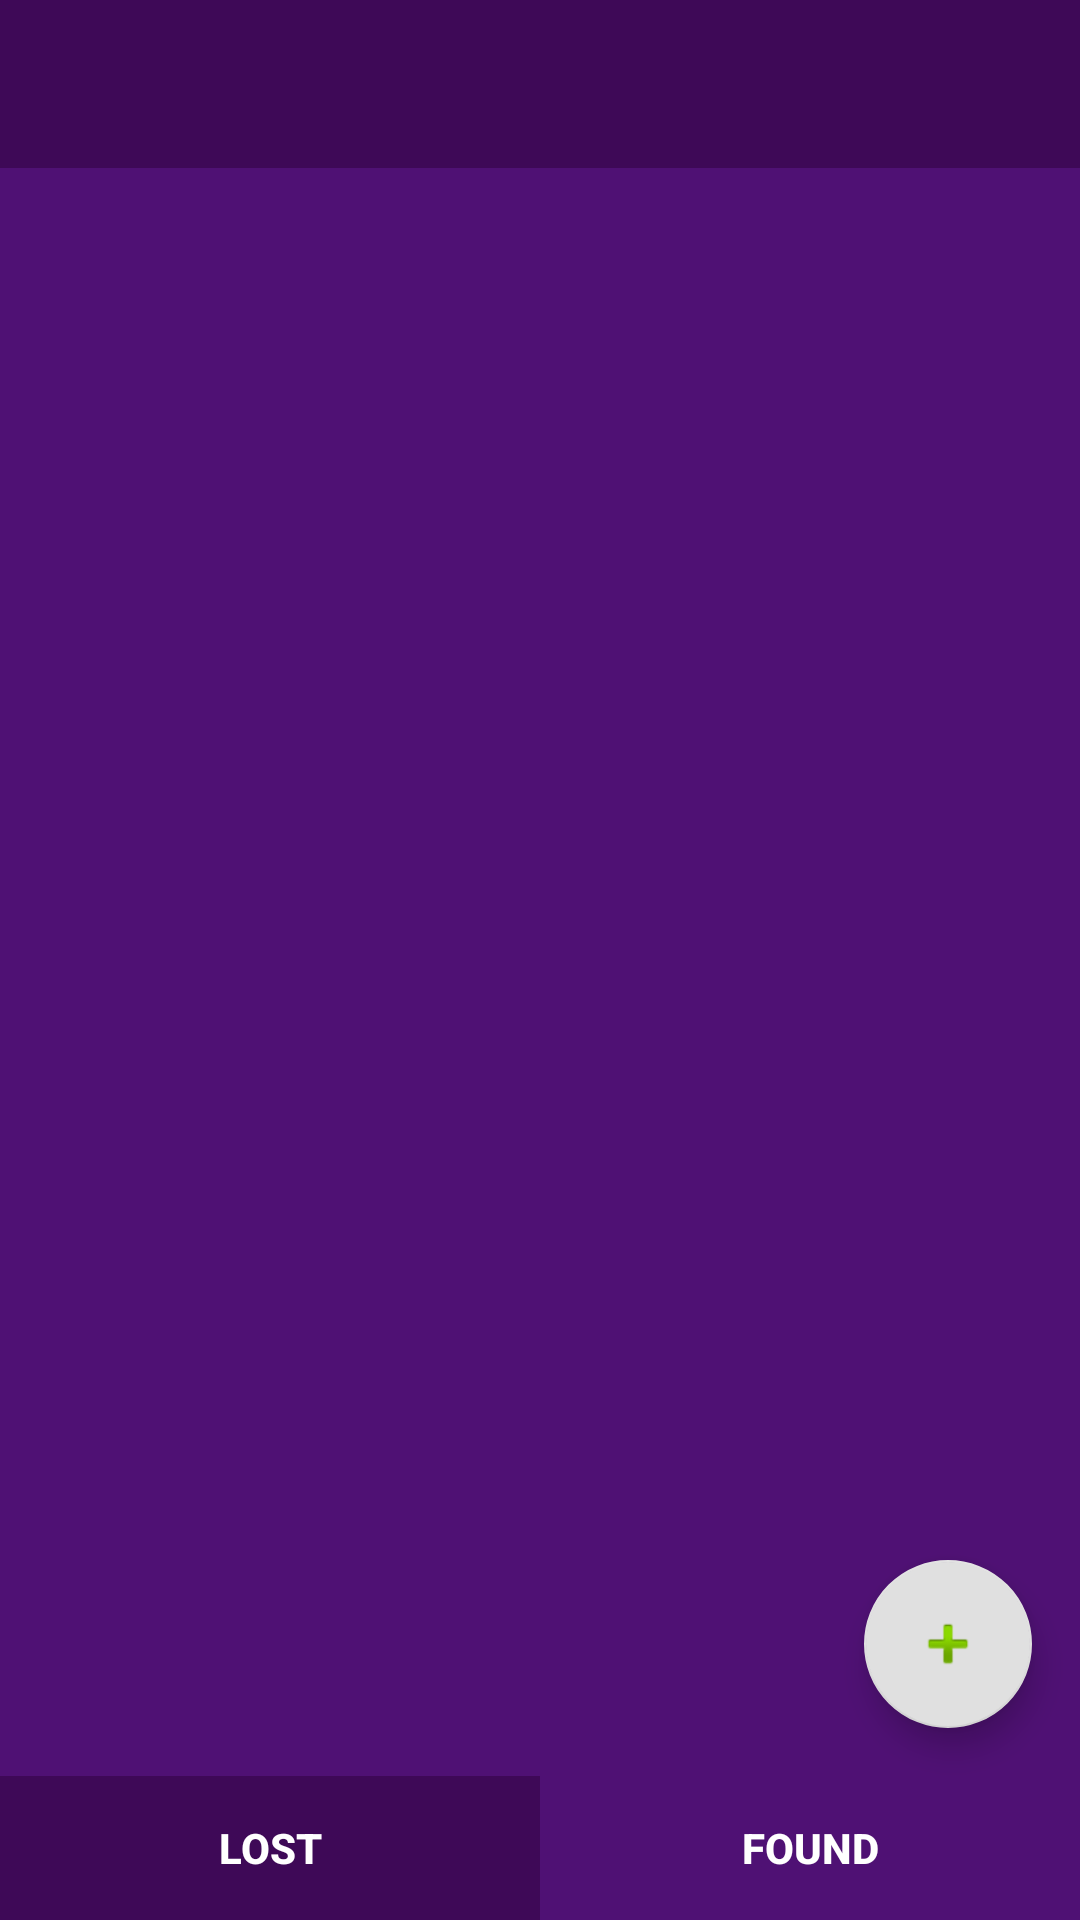

Screen size 1080*1920. Icon name, then its center in pixels as (x,y):
add: (948,1644)
